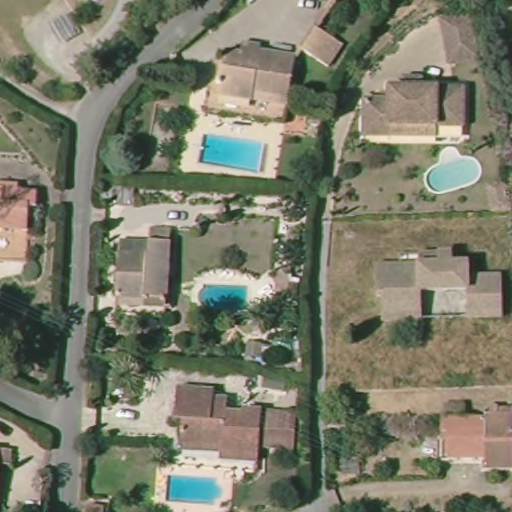pool: (194, 126, 272, 179), (416, 144, 485, 197), (194, 272, 259, 323), (161, 468, 228, 512)
